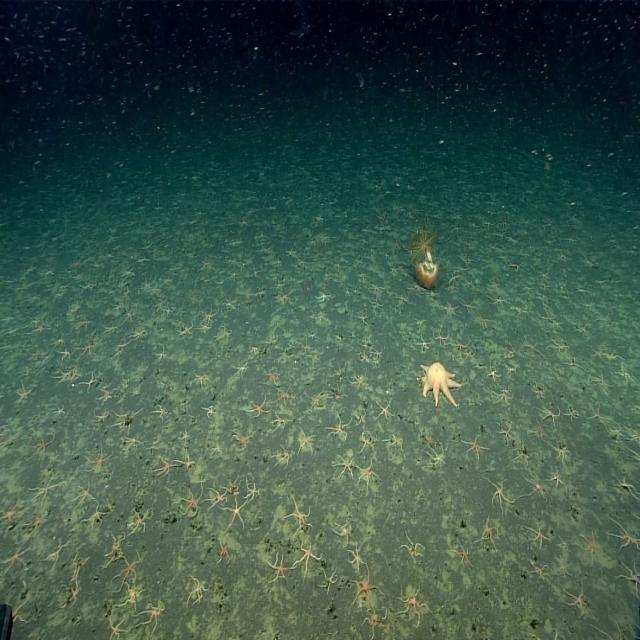brittle-stars: (352, 570, 380, 608), (40, 536, 71, 570), (68, 540, 91, 582), (611, 518, 640, 551), (30, 474, 61, 504), (401, 586, 426, 622), (329, 359, 352, 396), (116, 553, 140, 588), (286, 500, 311, 532), (297, 544, 322, 576), (139, 600, 164, 632), (619, 559, 640, 597), (488, 476, 512, 509), (178, 484, 201, 518), (366, 604, 389, 636), (3, 544, 29, 571), (11, 592, 31, 627), (86, 447, 112, 473), (30, 434, 56, 460), (566, 584, 588, 614), (579, 529, 601, 559), (587, 401, 609, 430), (270, 552, 292, 581), (186, 577, 207, 606), (480, 518, 499, 550), (357, 457, 377, 487), (228, 498, 248, 528), (462, 436, 485, 462), (616, 474, 639, 500), (524, 474, 546, 501), (402, 536, 424, 563), (331, 518, 352, 546), (591, 624, 627, 640), (122, 584, 145, 608), (526, 521, 547, 547), (129, 508, 149, 535), (538, 404, 560, 428), (330, 414, 351, 439), (74, 482, 94, 507), (453, 542, 472, 568), (247, 398, 269, 420), (115, 410, 138, 431), (222, 474, 243, 497), (87, 506, 107, 530), (28, 511, 48, 535), (0, 500, 19, 525), (109, 534, 127, 560), (207, 486, 228, 508), (107, 617, 127, 640), (274, 445, 293, 469), (336, 455, 355, 478), (275, 384, 294, 407), (515, 442, 533, 466), (321, 567, 338, 592), (230, 360, 250, 381), (233, 429, 253, 450), (299, 429, 315, 455), (492, 387, 512, 407), (157, 456, 177, 476), (529, 560, 548, 581), (550, 470, 568, 492), (17, 382, 35, 404), (67, 581, 82, 607), (349, 546, 365, 570), (496, 422, 514, 443), (613, 369, 631, 390), (216, 539, 231, 564), (530, 419, 547, 441), (96, 385, 115, 404), (349, 372, 367, 392), (592, 371, 610, 391), (376, 401, 394, 420), (124, 437, 144, 454), (245, 480, 260, 502), (176, 320, 194, 338), (80, 341, 98, 359), (429, 446, 445, 466), (453, 338, 471, 355), (178, 452, 194, 471), (83, 373, 99, 392), (29, 346, 48, 362), (191, 373, 209, 389), (264, 367, 280, 385), (551, 339, 569, 355), (311, 390, 325, 410), (443, 272, 463, 286), (387, 435, 403, 452), (474, 312, 491, 328), (153, 404, 168, 422), (488, 292, 506, 307), (274, 414, 289, 432), (501, 342, 516, 360), (436, 329, 450, 348), (359, 431, 373, 450), (444, 302, 460, 318), (76, 314, 92, 330), (590, 345, 606, 361), (203, 306, 218, 323), (394, 289, 409, 306), (460, 298, 477, 313), (151, 296, 166, 313), (486, 363, 500, 381), (557, 559, 571, 577), (216, 326, 231, 342), (203, 404, 218, 420), (556, 444, 570, 461), (95, 410, 112, 424), (565, 405, 578, 423), (355, 409, 367, 428), (131, 328, 147, 342), (59, 347, 73, 363), (509, 261, 525, 275), (524, 338, 538, 354), (211, 440, 224, 457), (157, 344, 168, 364), (558, 533, 570, 551), (418, 336, 431, 352), (125, 308, 138, 324), (104, 320, 118, 334), (503, 361, 517, 375), (53, 405, 68, 418), (358, 350, 371, 365), (302, 339, 314, 355), (423, 434, 435, 450), (142, 276, 153, 293), (371, 282, 385, 295), (122, 267, 136, 280), (316, 290, 331, 302), (199, 321, 212, 334), (178, 302, 190, 316), (368, 299, 382, 311), (229, 270, 241, 282), (162, 304, 173, 317), (180, 428, 190, 442), (374, 347, 384, 360)
